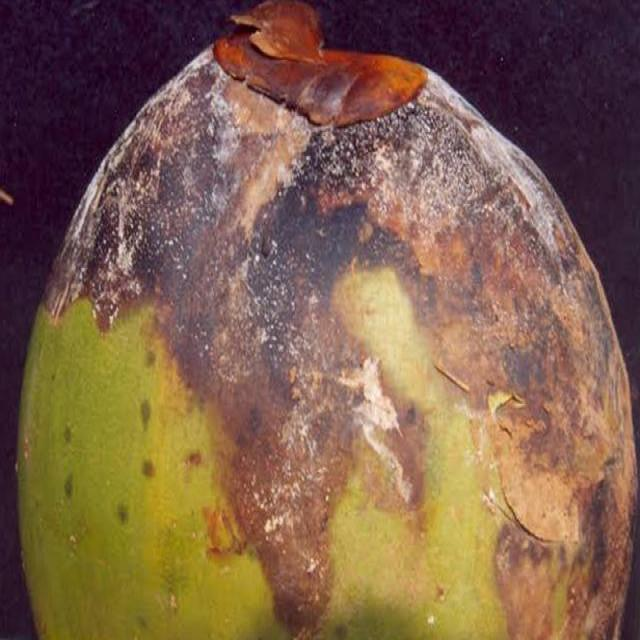damaged: (18, 0, 634, 639)
